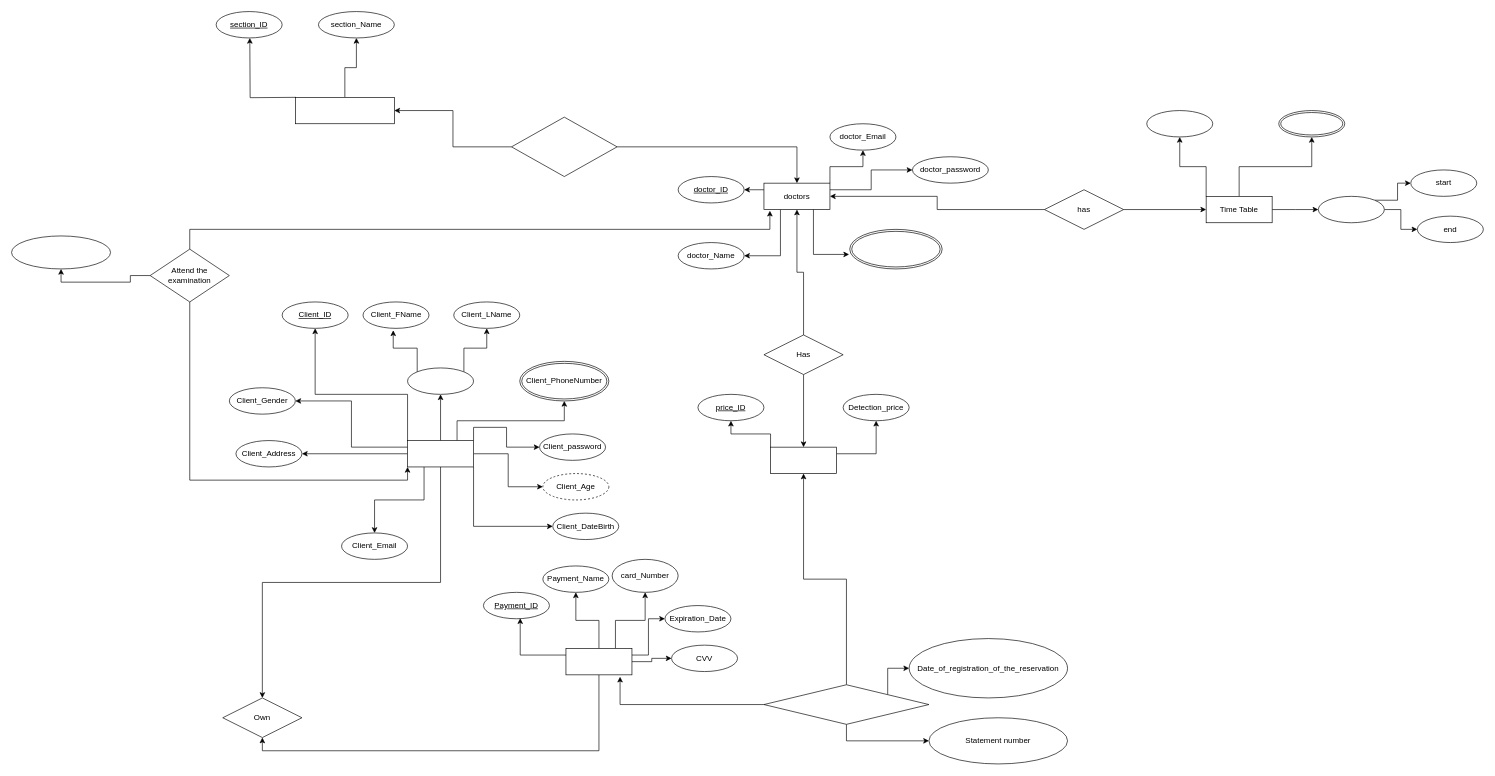
This 1495x776 diagram has some shape labels left out. Each missing label, with the centre of its shape:
"Client" belongs at pixel 440 453.
"Client_Name" belongs at pixel 440 380.
"Complete your reservation" belongs at pixel 846 704.
"days" belongs at pixel 1311 123.
"doctor_phoneNumber" belongs at pixel 895 249.
"Has it been detected?" belongs at pixel 61 252.
"Payment" belongs at pixel 598 661.
"price" belongs at pixel 803 460.
"sections" belongs at pixel 344 110.
"time_period" belongs at pixel 1351 209.
"TimeTable_ID" belongs at pixel 1179 123.
"WORK IN" belongs at pixel 564 146.
